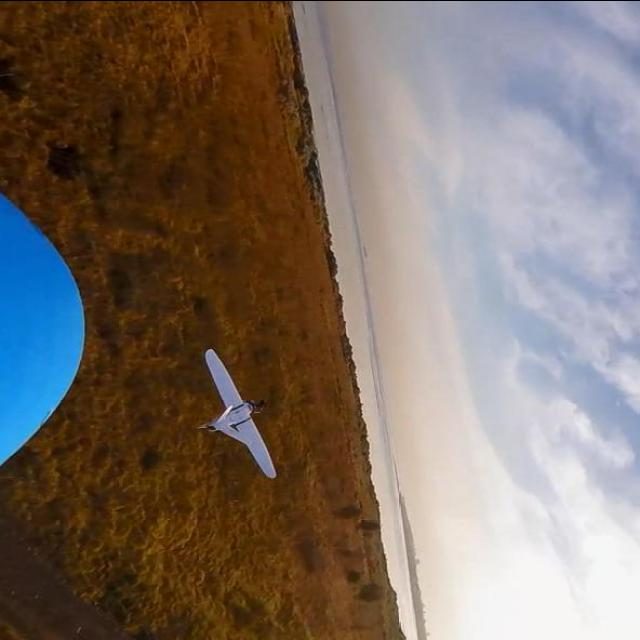plane: (196, 347, 279, 480)
